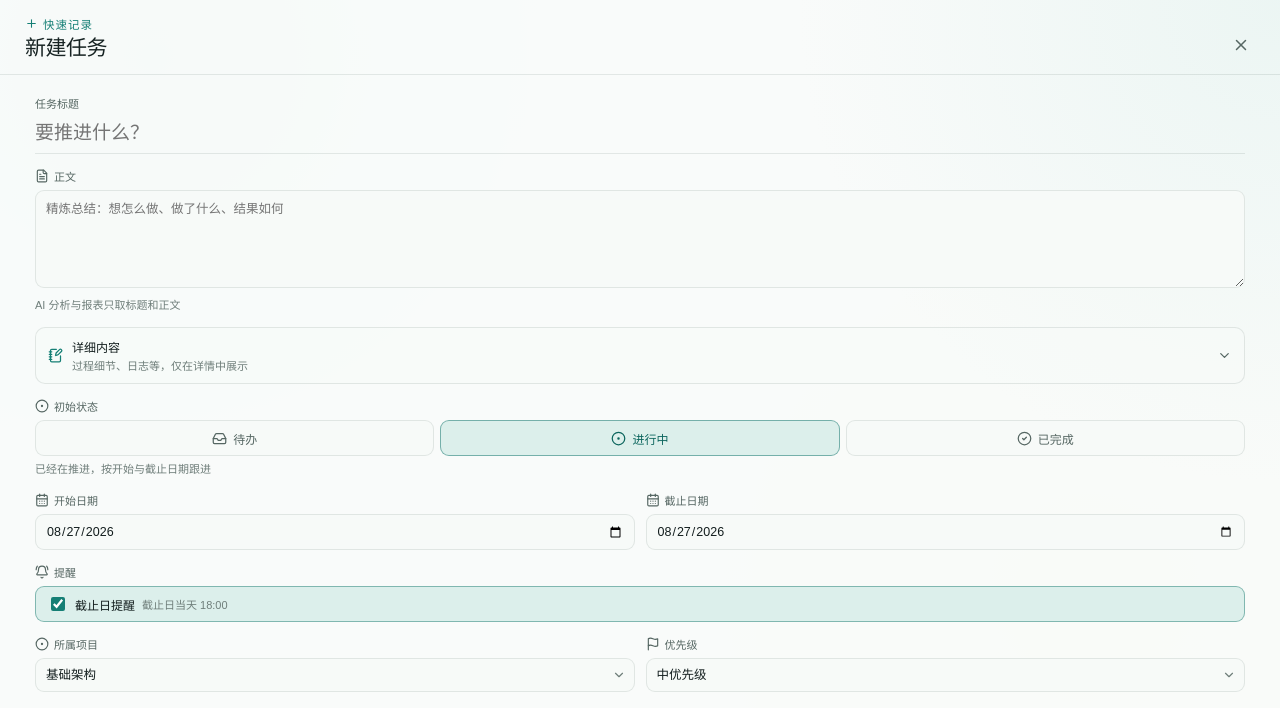
Test case: QuickCreate › 待办状态提醒区提示暂不排期
Step 1. Click the button "待办" → x=235, y=438, box [35, 420, 434, 456]
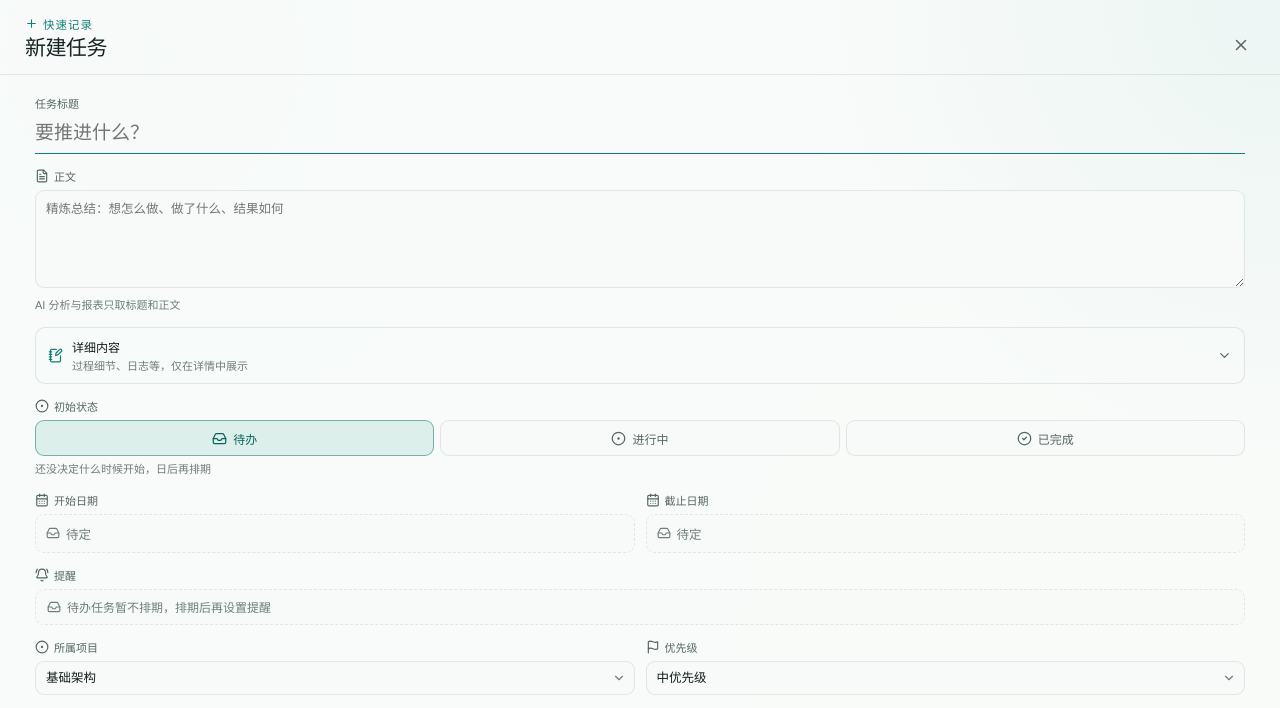
Expected: no elements with class "remind-row" are shown
Expected: the element with class "remind-idle" shows "暂不排期", [67, 601, 271, 615]
